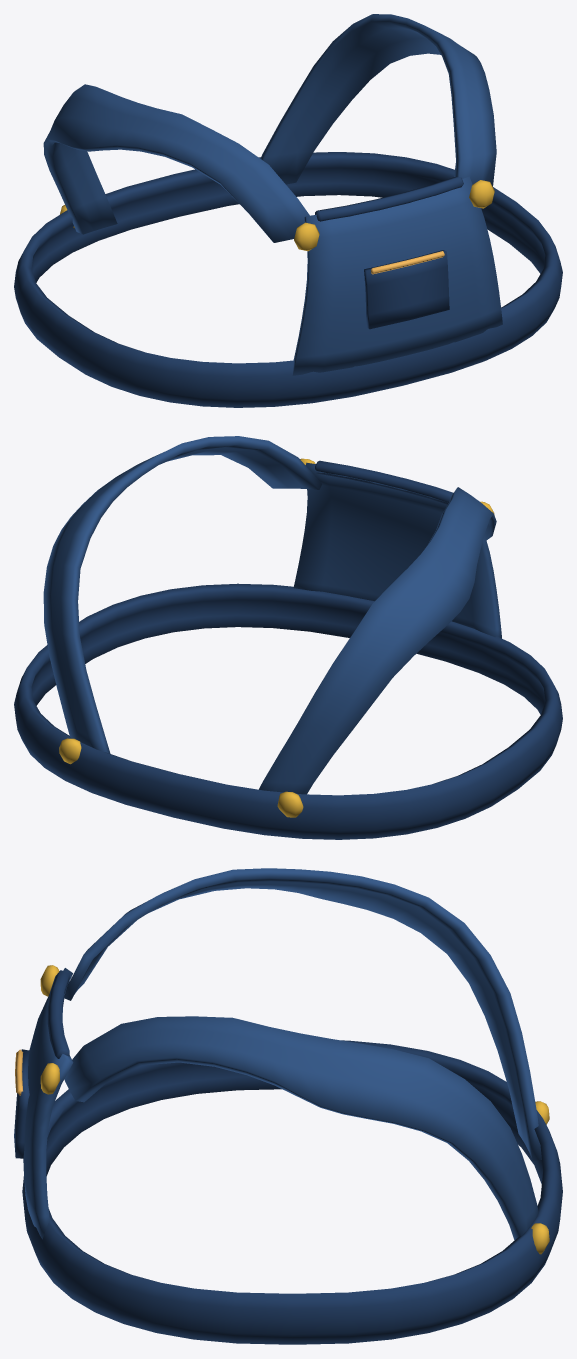
File: outfit_overalls.glb
The picture shows the model from 3 angles, top to bottom: view 1: azimuth 30°, elevation 25°; view 2: azimuth 150°, elevation 25°; view 3: azimuth 270°, elevation 25°; orthographic projection. The views are drawn at different scales.
Parts seen in each view (by area): view 1: OutfitOveralls; view 2: OutfitOveralls; view 3: OutfitOveralls.
Part boxes in pixels (left/top/right/bottom): OutfitOveralls: left=14, top=14, right=562, bottom=407; OutfitOveralls: left=14, top=436, right=562, bottom=839; OutfitOveralls: left=14, top=868, right=562, bottom=1344.
Size of the model in its own units: 0.6169 by 0.2995 by 0.5459.
